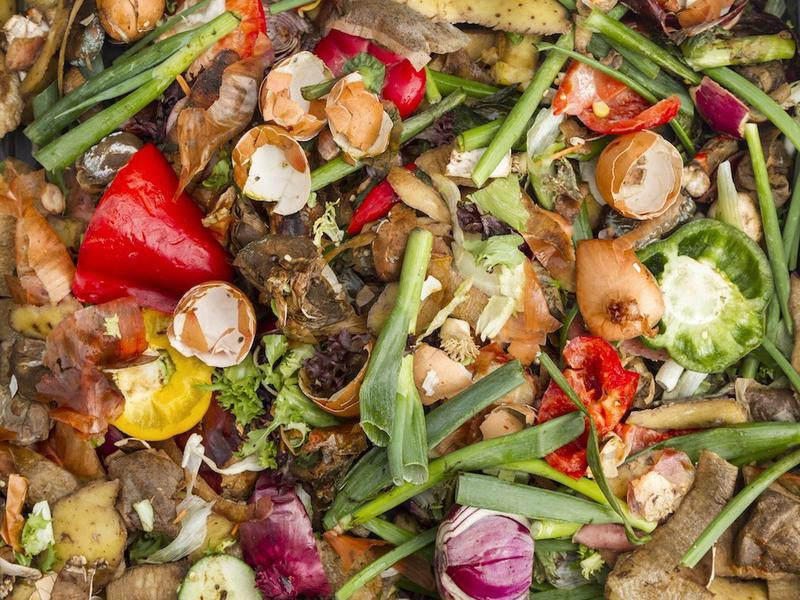vegetation: (7, 4, 799, 600)
